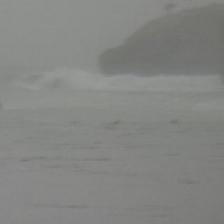surfer: (108, 119, 122, 126), (168, 118, 180, 125), (0, 101, 2, 111)
